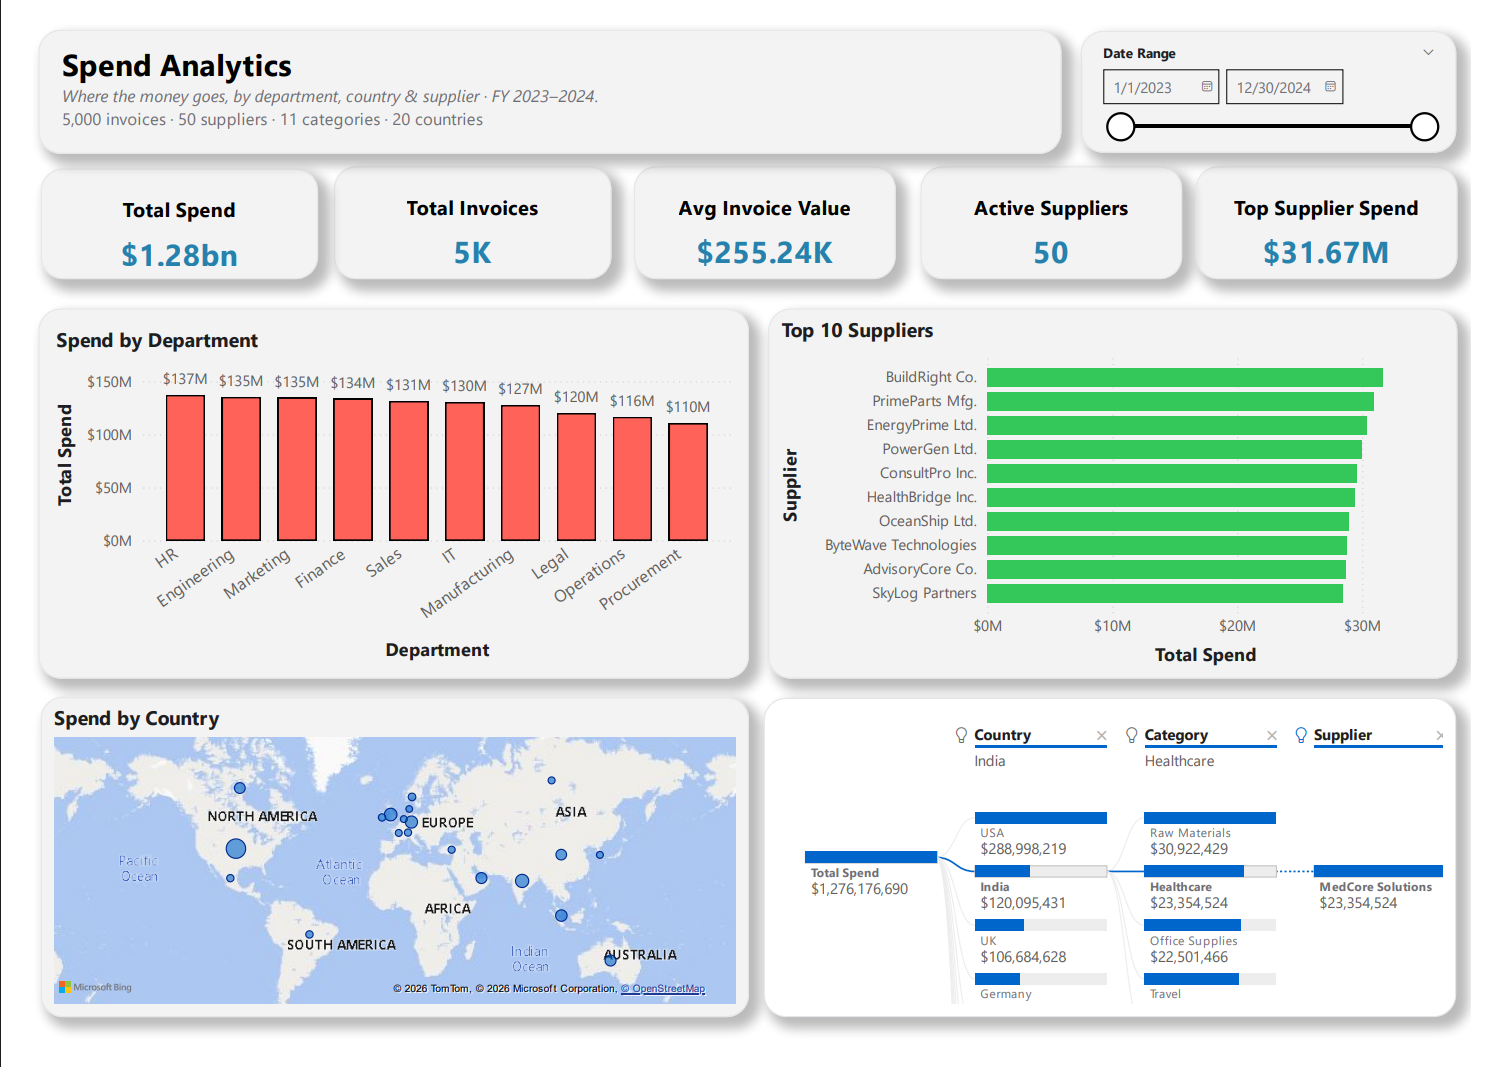

The dashboard page shown, as its layout file describes it:
{"tool":"powerbi","page":{"name":"Spend Analytics","canvas":[1280,900],"ordinal":1},"visuals":[{"type":"cardVisual","title":"Total Spend","fields":{"Data":["procurement_data.Avg Invoice Value"]},"box":[538,126,232,100],"z":0},{"type":"cardVisual","title":"Total Spend","fields":{"Data":["CountNonNull(procurement_data.Invoice_ID)"]},"box":[272,126,246,100],"z":1000},{"type":"cardVisual","title":"Total Spend","fields":{"Data":["procurement_data.Active Suppliers"]},"box":[792,126,232,100],"z":2000},{"type":"clusteredColumnChart","title":"Spend by Department","fields":{"Category":["procurement_data.Department"],"Y":["procurement_data.Total Spend"]},"box":[10,252,630,328],"z":3000},{"type":"cardVisual","title":"Total Spend","fields":{"Data":["procurement_data.Top Supplier Spend"]},"box":[1036,126,232,100],"z":4000},{"type":"slicer","fields":{"Values":["procurement_data.Date"]},"box":[934.3,5.7,332.9,108.6],"z":5000},{"type":"cardVisual","title":"Total Spend","fields":{"Data":["procurement_data.Total Spend"]},"box":[12,128,246,98],"z":6000},{"type":"map","title":"Spend by Country","fields":{"Category":["procurement_data.Country"],"Size":["procurement_data.Total Spend"]},"box":[12,596,628,284],"z":7000},{"type":"clusteredBarChart","title":"Top 10 Suppliers","fields":{"Category":["procurement_data.Supplier"],"Y":["procurement_data.Total Spend"]},"box":[656.7,251.7,611.7,328.3],"z":8000},{"type":"decompositionTreeVisual","fields":{"ExplainBy":["procurement_data.Country","procurement_data.Category","procurement_data.Supplier","procurement_data.Department"],"Analyze":["procurement_data.Total Spend"]},"box":[653.3,596.7,613.3,283.3],"z":9000},{"type":"textbox","box":[10,5,906.7,110],"z":10000}]}

Visuals, with their boxes in screenshot pixels (x1, y1, x2, y2), scaled from the page's 1280x900 canvas onto the 1496x1067 screenshot:
"Total Spend" cardVisual: detection(629, 149, 900, 268)
"Total Spend" cardVisual: detection(318, 149, 605, 268)
"Total Spend" cardVisual: detection(926, 149, 1197, 268)
"Spend by Department" clusteredColumnChart: detection(12, 299, 748, 688)
"Total Spend" cardVisual: detection(1211, 149, 1482, 268)
slicer - procurement_data.Date: detection(1092, 7, 1481, 136)
"Total Spend" cardVisual: detection(14, 152, 302, 268)
"Spend by Country" map: detection(14, 707, 748, 1043)
"Top 10 Suppliers" clusteredBarChart: detection(768, 298, 1482, 688)
decompositionTreeVisual - procurement_data.Country x procurement_data.Category: detection(764, 707, 1480, 1043)
textbox: detection(12, 6, 1071, 136)
